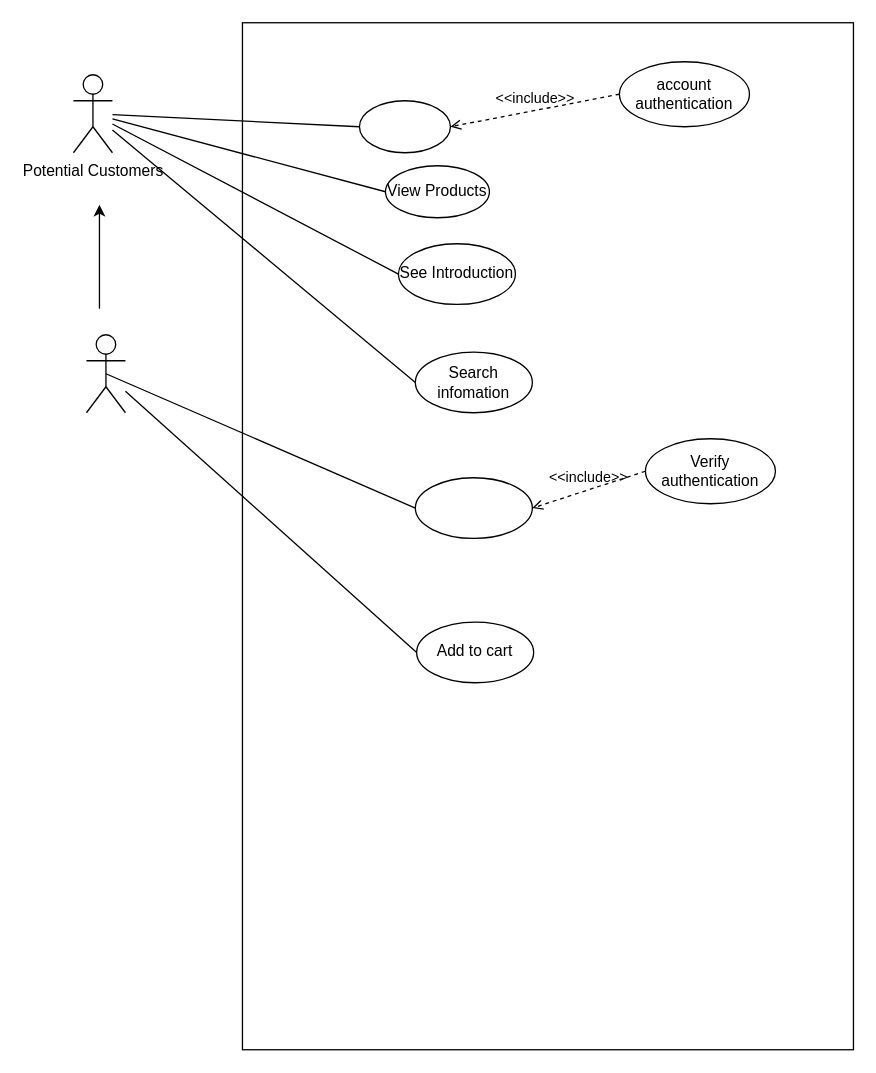
Some shapes in this 876 by 1073 pixel diagram are drawn without their labels. The shapes that lost their labels are listed below. From the top down, each one's centre as x and y in pixels, then its label:
the point at 404,126: Register
the point at 105,373: Customer
the point at 473,507: Login
